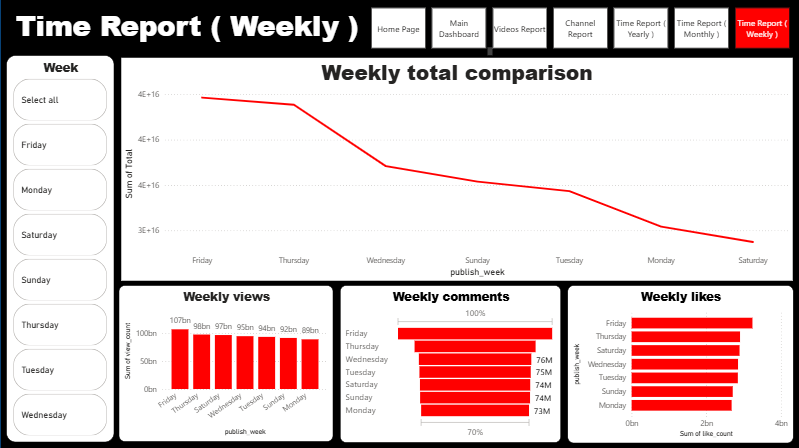

Layout of this report page (visuals, bound fields, positions):
{"tool":"powerbi","page":{"name":"Time Report ( Weekly )","canvas":[1280,720],"ordinal":7},"visuals":[{"type":"shape","box":[0,0,1280,720],"z":0},{"type":"textbox","title":"Time Report ( Weekly )","box":[20,10.7,773.3,85],"z":1000},{"type":"columnChart","title":"Weekly views","fields":{"Y":["Sum(Fact_Views.view_count)"],"Category":["Dim_Time.publish_week"]},"box":[190,458.3,343.3,250],"z":2000},{"type":"barChart","title":"Weekly likes","fields":{"Y":["Sum(Fact_Views.like_count)"],"Category":["Dim_Time.publish_week"]},"box":[908.6,458.6,361.7,252.9],"z":3000},{"type":"funnel","title":"Weekly comments","fields":{"Y":["Sum(Fact_Views.comment_count)"],"Category":["Dim_Time.publish_week"]},"box":[544.7,458.3,353.7,251.7],"z":4000},{"type":"lineChart","title":"Weekly total comparison","fields":{"Y":["Sum(Fact_Views.engagement)"],"Category":["Dim_Time.publish_week"]},"box":[193.3,93.3,1074.7,356.7],"z":5000},{"type":"advancedSlicerVisual","title":"Week","fields":{"Values":["Dim_Time.publish_week"]},"box":[10,90.6,172.9,619.4],"z":6000},{"type":"pageNavigator","box":[593.3,13.3,673.3,65],"z":8000}]}

Visuals, with their boxes in screenshot pixels (x1, y1, x2, y2), scaled from the page's 1280x720 canvas onto the 799x448 screenshot:
shape: [left=0, top=0, right=798, bottom=447]
"Time Report ( Weekly )" textbox: [left=12, top=7, right=495, bottom=60]
"Weekly views" columnChart: [left=119, top=285, right=333, bottom=441]
"Weekly likes" barChart: [left=567, top=285, right=793, bottom=443]
"Weekly comments" funnel: [left=340, top=285, right=561, bottom=442]
"Weekly total comparison" lineChart: [left=121, top=58, right=792, bottom=280]
"Week" advancedSlicerVisual: [left=6, top=56, right=114, bottom=442]
pageNavigator: [left=370, top=8, right=791, bottom=49]
